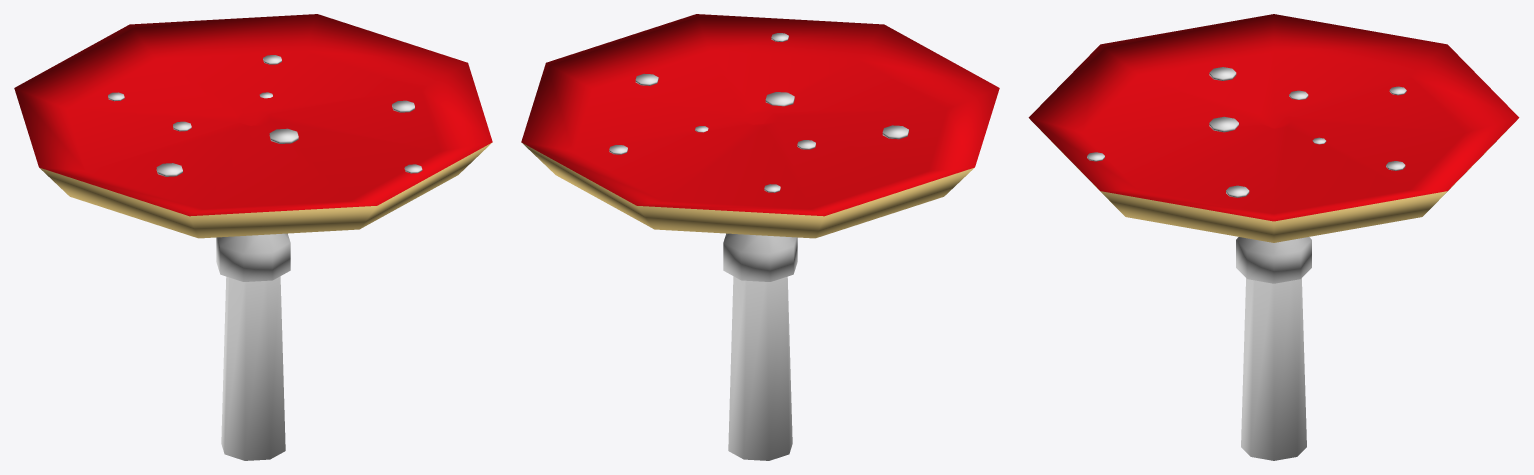
Rendered from Mushroom3.fbx.
3 views of the same model, side by side, from view 1: azimuth 30°, elevation 25°; view 2: azimuth 150°, elevation 25°; view 3: azimuth 270°, elevation 25° (orthographic).
Visible parts, largest first — view 1: Plane.001; view 2: Plane.001; view 3: Plane.001.
Boxes of the visible parts, box(x1,y1,x2,y2) form: Plane.001: box(14, 14, 492, 460); Plane.001: box(521, 14, 999, 460); Plane.001: box(1028, 14, 1519, 460).
Size of the model in its own units: 97.61 by 72.22 by 97.61.
